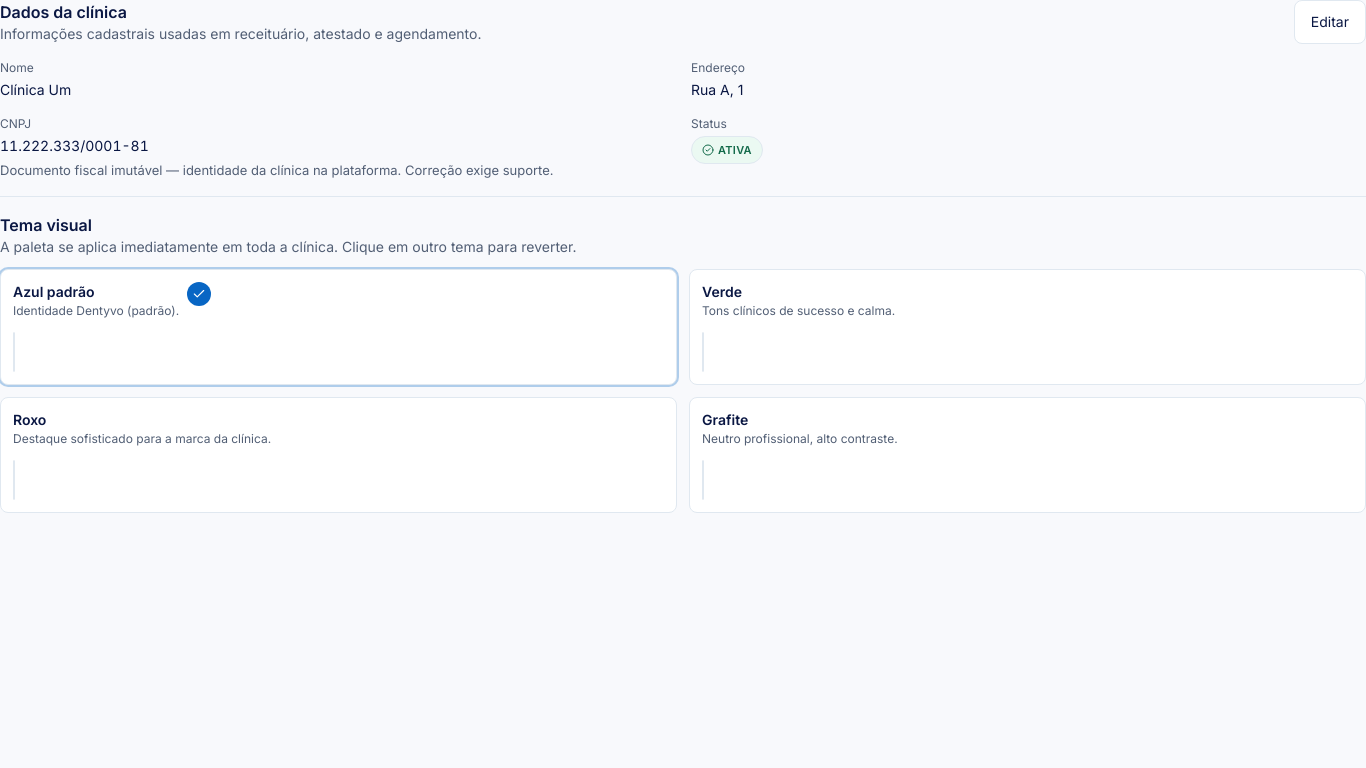
Test case: GeralConfigTab › abre o modal de edição sem campo de documento
This screenshot has width=1366, height=768.
Expected: the text "Clínica Um" is shown, [0, 81, 71, 98]
What coordinates should you click on to do the following:
click the button "Editar"
I would click on:
 (1330, 22)
Its box is [1294, 0, 1365, 44].
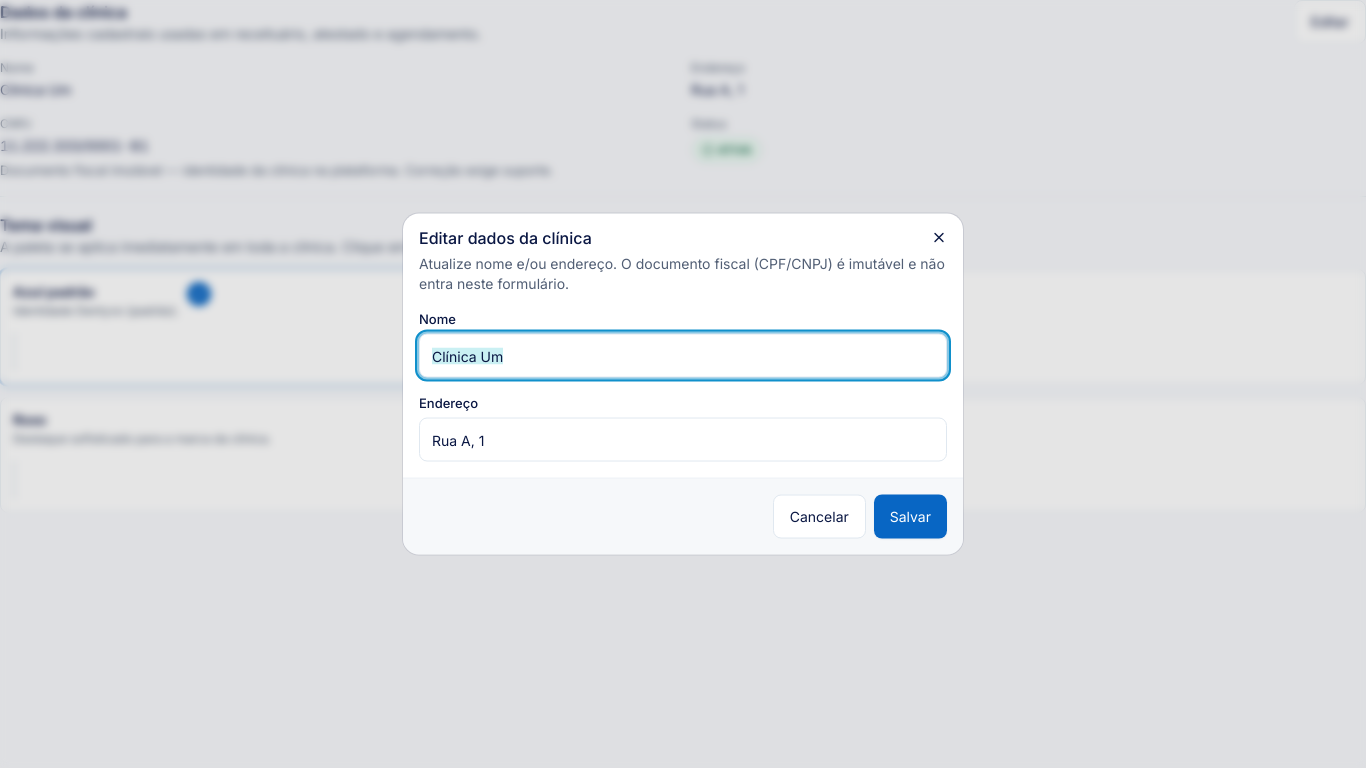
Result: the heading "Editar dados da clínica" is shown at [419, 228, 592, 248]
